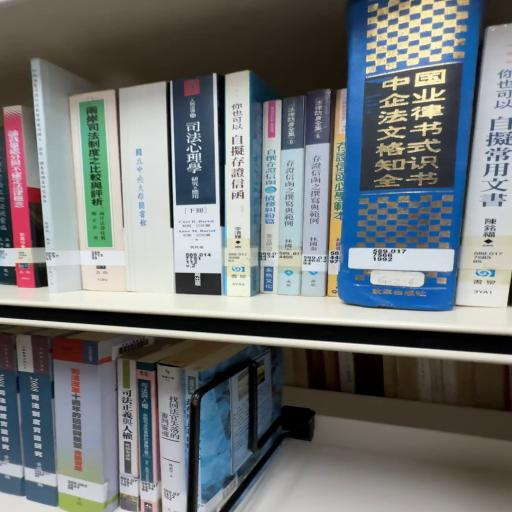backward: (118, 84, 174, 298)
book: (173, 77, 226, 302), (221, 68, 262, 297), (72, 90, 127, 247), (156, 361, 189, 512), (2, 107, 30, 255)
